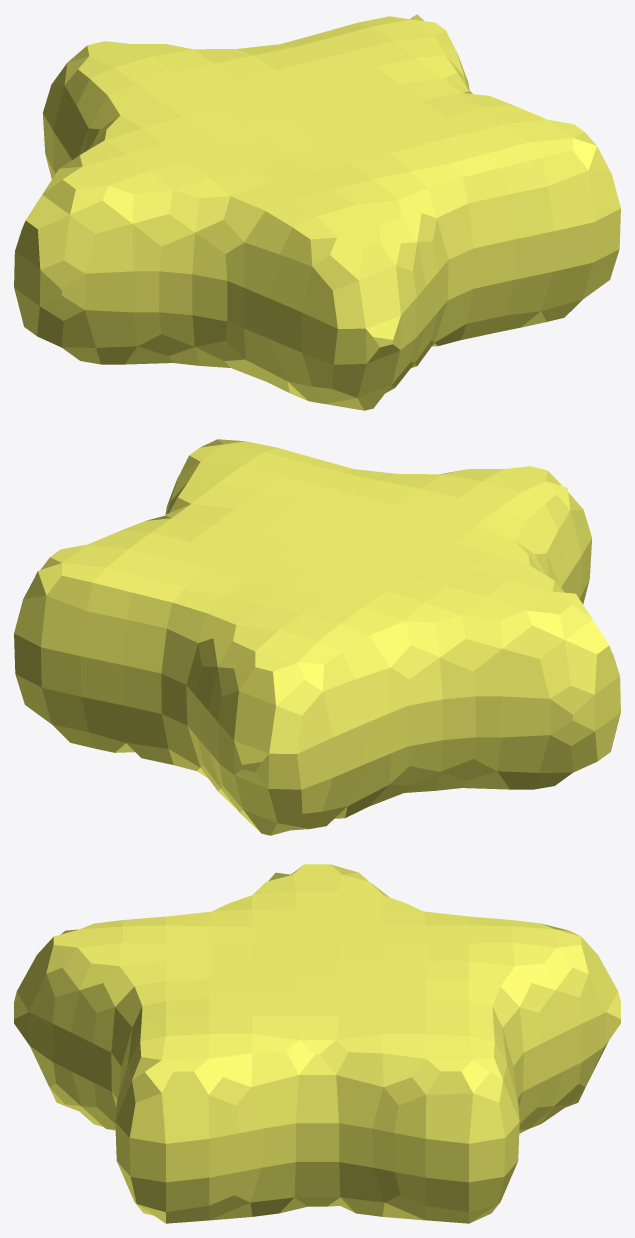
The model's file is star.glb.
3 renders of one model, top to bottom at view 1: azimuth 30°, elevation 25°; view 2: azimuth 150°, elevation 25°; view 3: azimuth 270°, elevation 25°, orthographic. The views are drawn at different scales.
Parts seen in each view (by area): view 1: star.001; view 2: star.001; view 3: star.001.
Boxes of the visible parts, x1,y1,x2,y2 form: star.001: (14, 14, 620, 410); star.001: (14, 439, 620, 835); star.001: (14, 864, 620, 1223).
Size of the model in its own units: 4.09 by 1.41 by 4.39.
